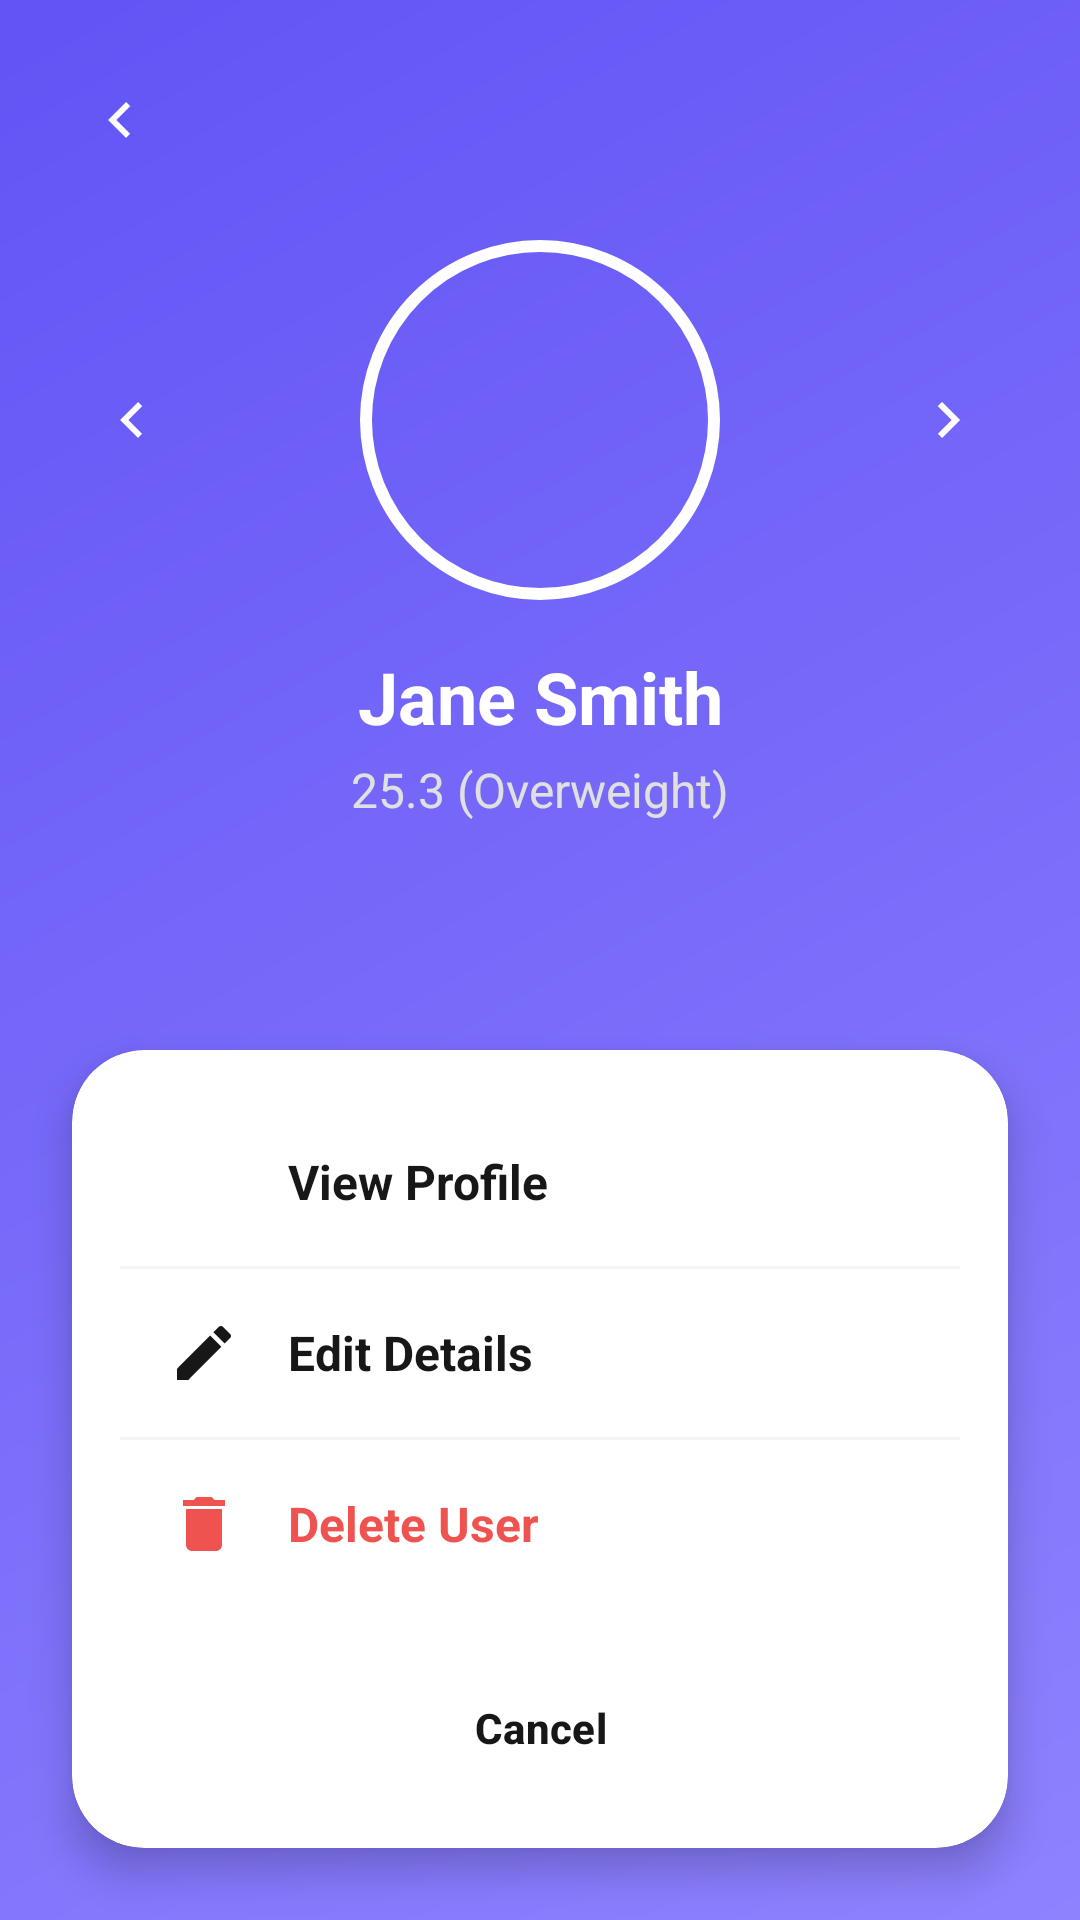

Icon bounding boxes for this 1080*1920 phone screenshot, format (x1, y1, x2, y2):
arrow left: (108, 102, 130, 138), (120, 402, 142, 438)
arrow right: (938, 402, 960, 438)
